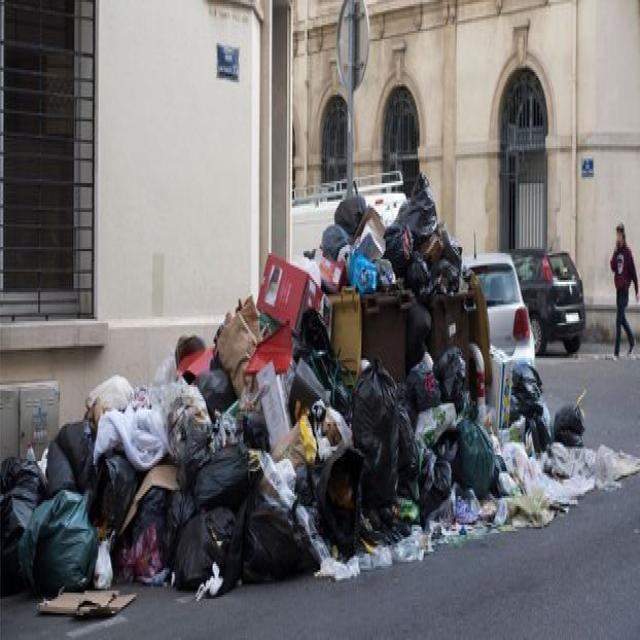Trashbag: (240, 496, 322, 588), (23, 494, 98, 589), (393, 409, 455, 520), (178, 502, 244, 603), (312, 447, 370, 556), (358, 360, 400, 493), (446, 414, 498, 496), (318, 185, 371, 261), (126, 483, 188, 547), (44, 420, 94, 497), (0, 459, 48, 535), (510, 366, 551, 450), (385, 224, 432, 290), (194, 450, 248, 506), (398, 177, 446, 239), (91, 459, 133, 525), (554, 402, 596, 451), (408, 364, 447, 415), (440, 352, 471, 414), (196, 366, 239, 409), (245, 412, 271, 455)
